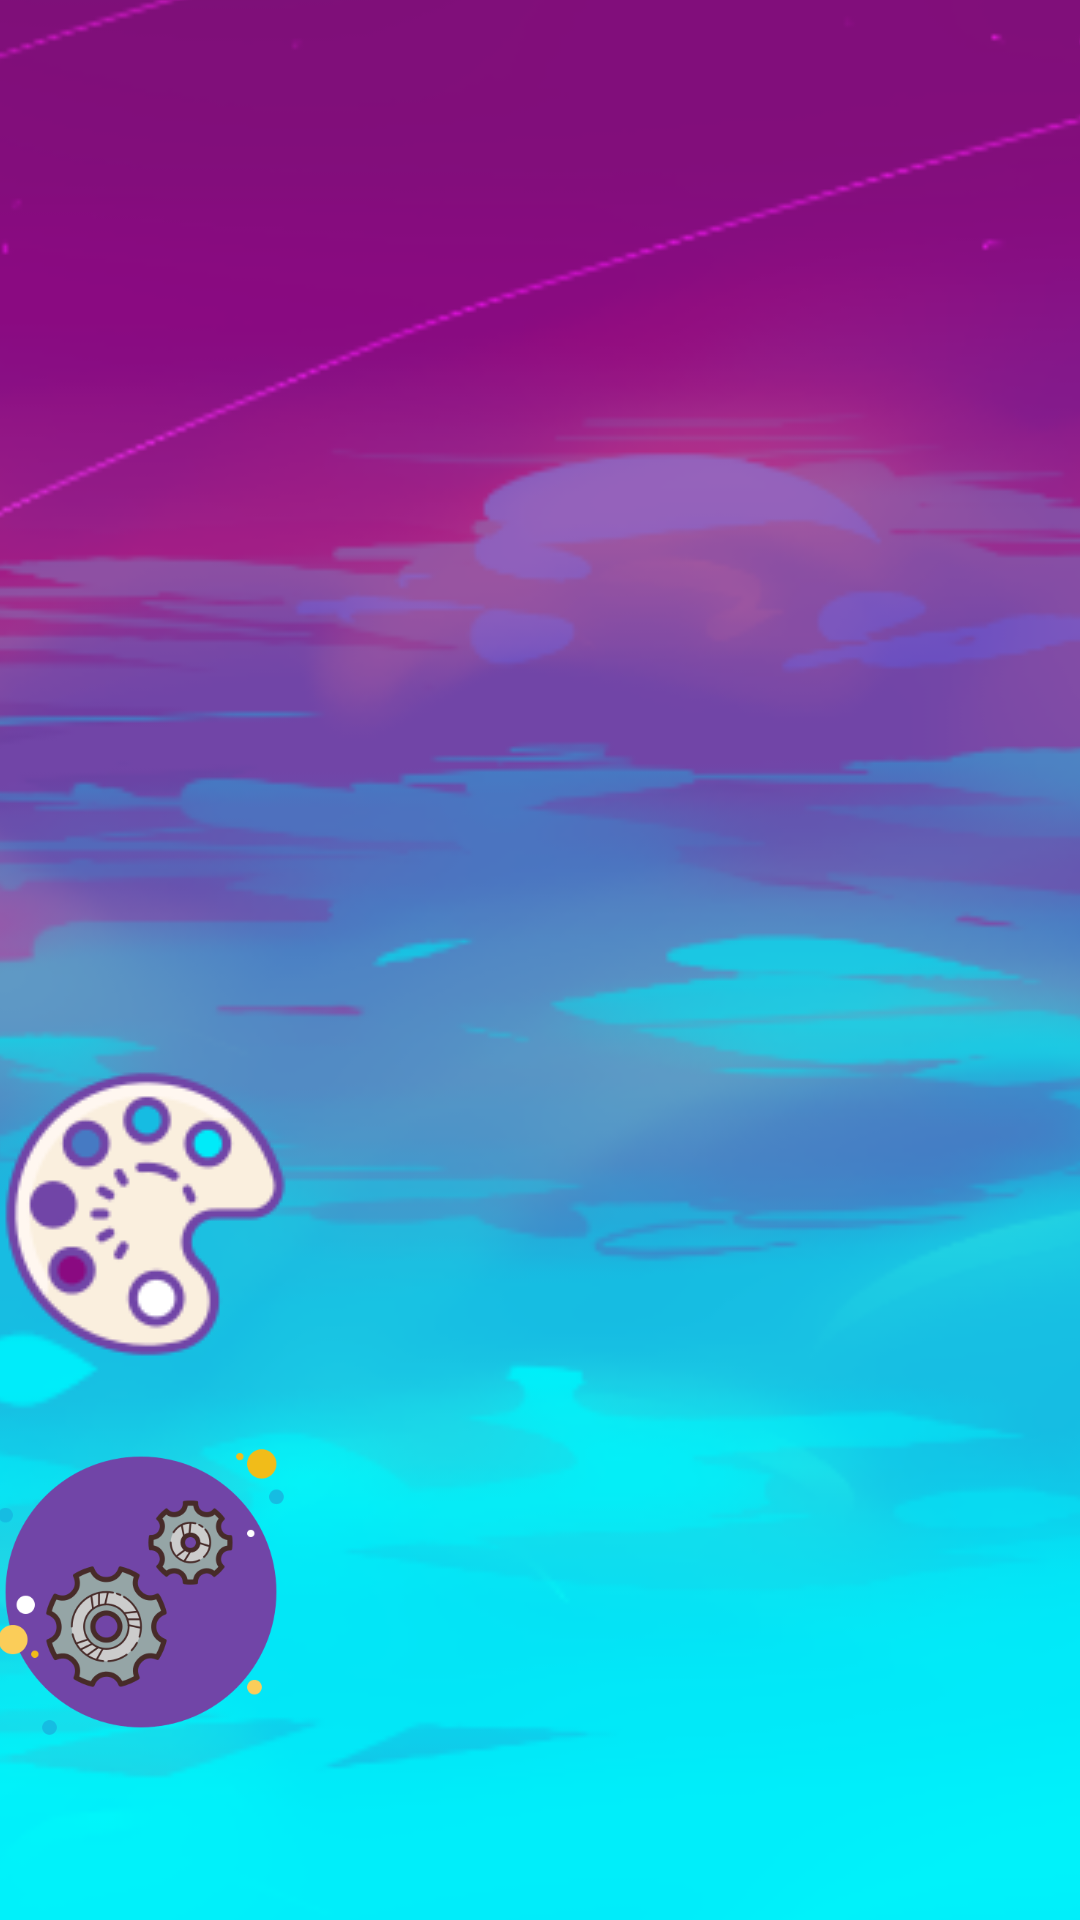

Named icons in this screenshot (1080x1920) and their centers, point (x, y):
engrenagem: point (154, 1574)
paleta: point (148, 1214)
